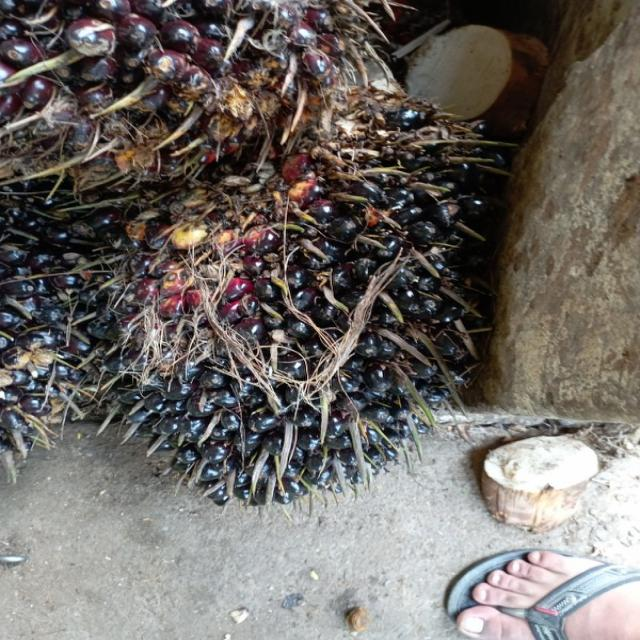fraksi 00: (104, 104, 478, 505)
